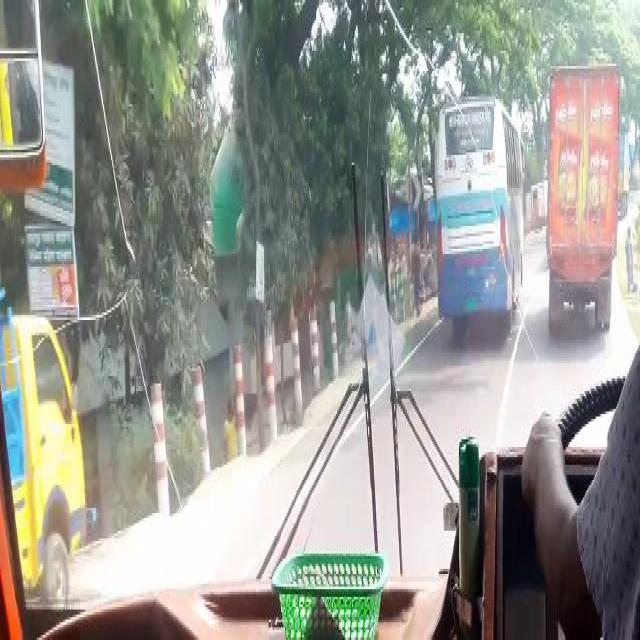bus: (433, 101, 523, 318)
pickup: (4, 320, 98, 607), (547, 65, 615, 324), (618, 132, 628, 211)
